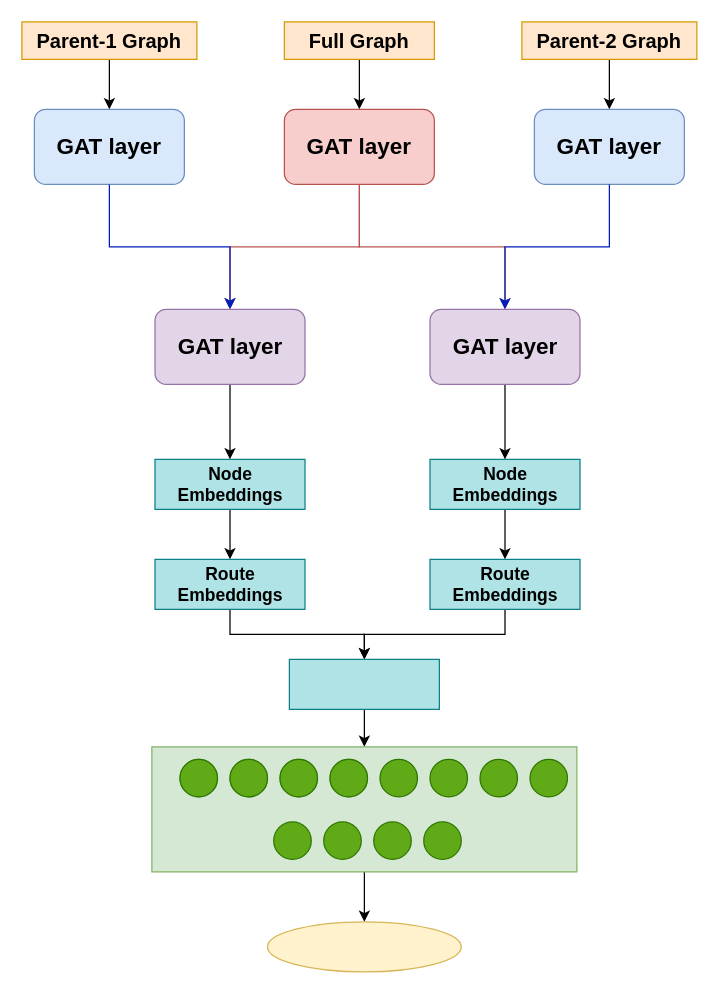
This 719x994 diagram has some shape labels left out. Each missing label, with the centre of its shape:
"Prediction" goes at (x=363, y=946).
"PtoP Embeddings" goes at (x=363, y=683).
